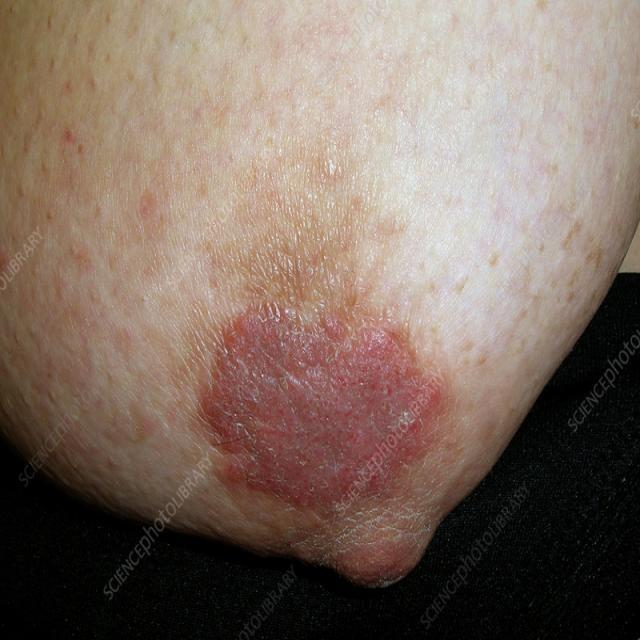Eczema: (202, 275, 443, 522)
